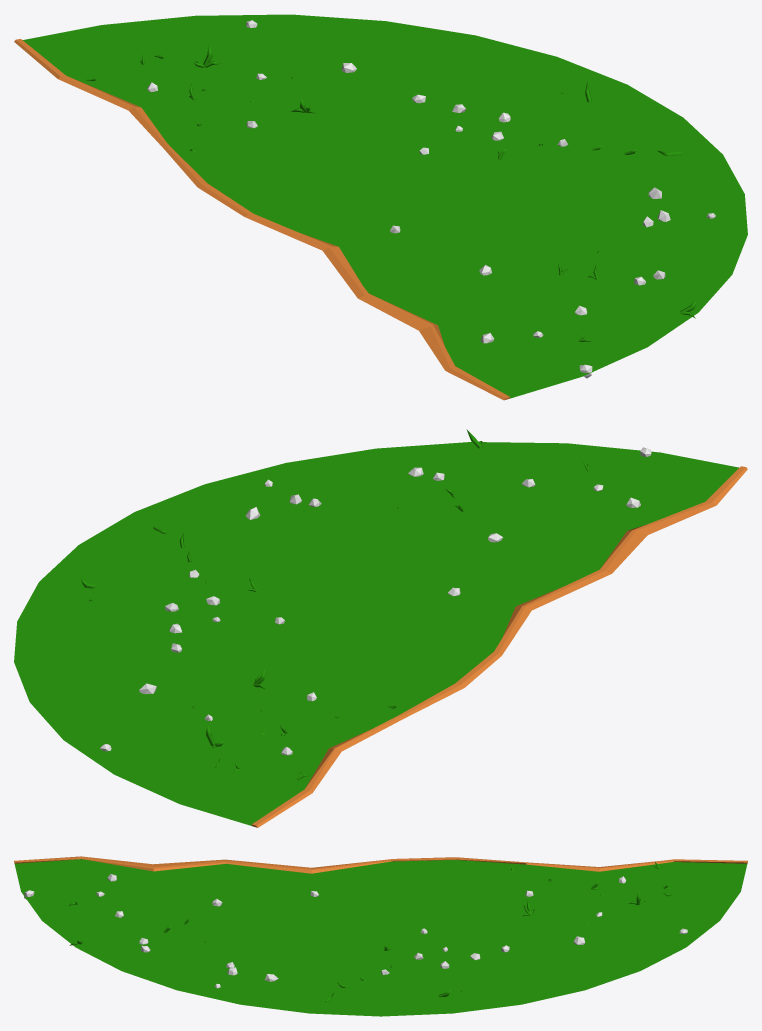
The model's file is Inner Grass.fbx.
The picture shows the model from 3 angles, top to bottom: view 1: azimuth 30°, elevation 25°; view 2: azimuth 150°, elevation 25°; view 3: azimuth 270°, elevation 25°; orthographic projection. The views are drawn at different scales.
Visible parts, largest first — view 1: Inner Grass; view 2: Inner Grass; view 3: Inner Grass.
Boxes of the visible parts, bbox=[...] form: Inner Grass: bbox=[14, 14, 747, 400]; Inner Grass: bbox=[14, 442, 747, 827]; Inner Grass: bbox=[14, 856, 747, 1016].
Size of the model in its own units: 126 by 1363 by 2640.
